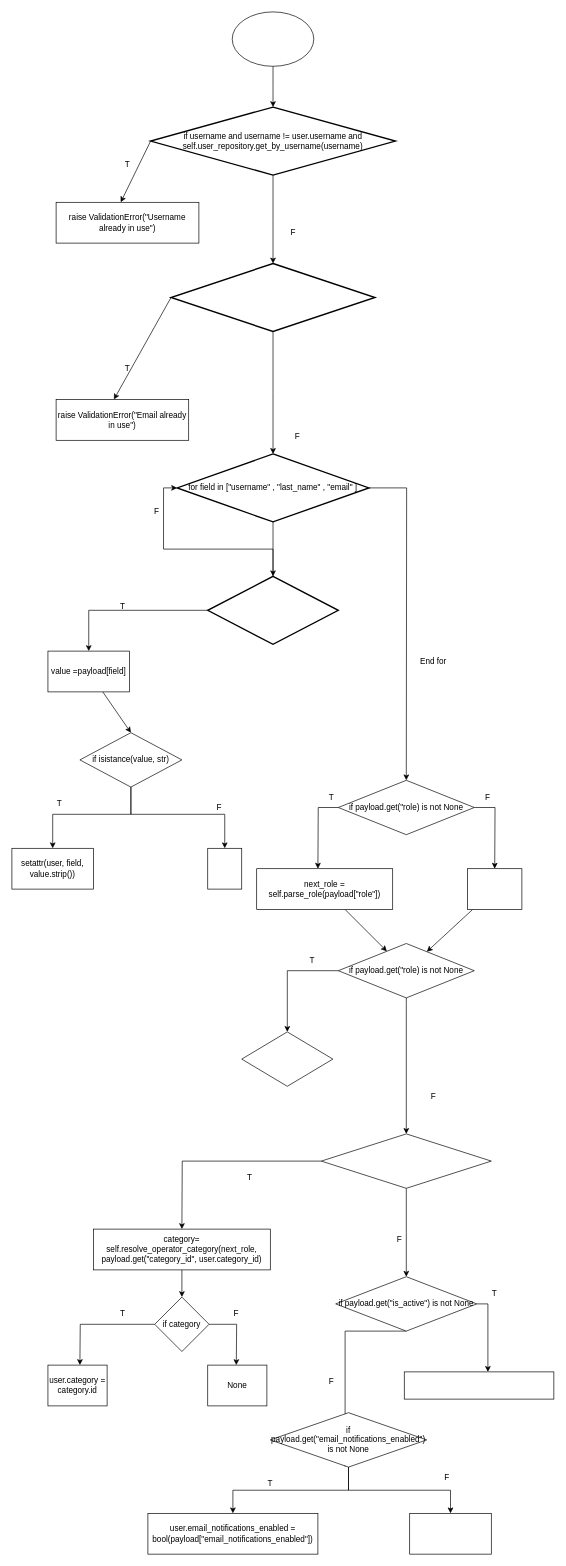
This 566x1566 diagram has some shape labels left out. The centre of each missing label's shape, as x and y in pixels:
if "category_id" in payload or payload.get("role") is not None: point (406, 1160)
if email and email != user.email and self.user_repository.get_by_email(email): point (272, 297)
if payload.get(field) is not None: point (273, 610)
self.session.commit() return user: point (450, 1533)
Start: point (273, 38)
user.is_active=bool(payload["is_active"]): point (479, 1385)
user.role: point (494, 889)
user.role=next.role: point (287, 1058)
value: point (224, 868)
